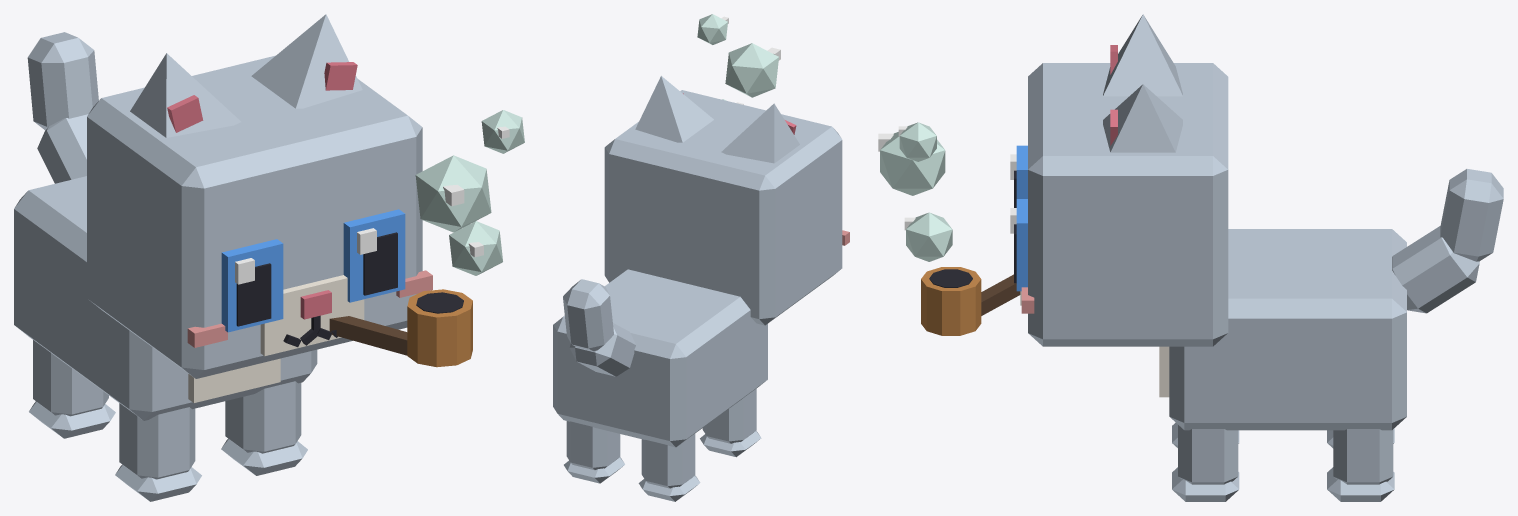
Rendered from CatCafe_Cat_Bubbles.glb.
3 renders of one model, left to right at view 1: azimuth 30°, elevation 25°; view 2: azimuth 150°, elevation 25°; view 3: azimuth 270°, elevation 25°, orthographic. The views are drawn at different scales.
Visible parts, largest first — view 1: CatCafe_Cat_Bubbles_Head, CatCafe_Cat_Bubbles_Body, CatCafe_Cat_Bubbles_Tail, CatCafe_Cat_Bubbles_Prop_Glass, CatCafe_Cat_Bubbles_Prop, CatCafe_Cat_Bubbles_LegF2, CatCafe_Cat_Bubbles_LegF1, CatCafe_Cat_Bubbles_EarL, CatCafe_Cat_Bubbles_Eye2, CatCafe_Cat_Bubbles_Eye1, CatCafe_Cat_Bubbles_LegB2, CatCafe_Cat_Bubbles_EarR; view 2: CatCafe_Cat_Bubbles_Head, CatCafe_Cat_Bubbles_Body, CatCafe_Cat_Bubbles_Tail, CatCafe_Cat_Bubbles_LegB2, CatCafe_Cat_Bubbles_Prop_Glass, CatCafe_Cat_Bubbles_EarL, CatCafe_Cat_Bubbles_LegB1, CatCafe_Cat_Bubbles_EarR, CatCafe_Cat_Bubbles_LegF2; view 3: CatCafe_Cat_Bubbles_Head, CatCafe_Cat_Bubbles_Body, CatCafe_Cat_Bubbles_Tail, CatCafe_Cat_Bubbles_Prop_Glass, CatCafe_Cat_Bubbles_Prop, CatCafe_Cat_Bubbles_LegF1, CatCafe_Cat_Bubbles_LegB1, CatCafe_Cat_Bubbles_EarR, CatCafe_Cat_Bubbles_EarL, CatCafe_Cat_Bubbles_Eye1, CatCafe_Cat_Bubbles_Eye2.
Boxes of the visible parts, x1,y1,x2,y2 form: CatCafe_Cat_Bubbles_Head: (87,55,432,378); CatCafe_Cat_Bubbles_Body: (14,176,317,420); CatCafe_Cat_Bubbles_Tail: (27,32,98,183); CatCafe_Cat_Bubbles_Prop_Glass: (415,110,524,275); CatCafe_Cat_Bubbles_Prop: (329,126,509,367); CatCafe_Cat_Bubbles_LegF2: (115,403,201,501); CatCafe_Cat_Bubbles_LegF1: (221,381,307,475); CatCafe_Cat_Bubbles_EarL: (251,14,362,108); CatCafe_Cat_Bubbles_Eye2: (221,239,283,332); CatCafe_Cat_Bubbles_Eye1: (343,209,405,302); CatCafe_Cat_Bubbles_LegB2: (29,340,115,438); CatCafe_Cat_Bubbles_EarR: (130,53,240,137); CatCafe_Cat_Bubbles_Head: (604,90,849,325); CatCafe_Cat_Bubbles_Body: (553,269,767,447); CatCafe_Cat_Bubbles_Tail: (563,279,635,376); CatCafe_Cat_Bubbles_LegB2: (638,433,700,501); CatCafe_Cat_Bubbles_Prop_Glass: (697,14,778,100); CatCafe_Cat_Bubbles_EarL: (635,76,713,142); CatCafe_Cat_Bubbles_LegB1: (564,421,624,483); CatCafe_Cat_Bubbles_EarR: (721,103,799,163); CatCafe_Cat_Bubbles_LegF2: (700,388,761,457); CatCafe_Cat_Bubbles_Head: (1020,63,1228,346); CatCafe_Cat_Bubbles_Body: (1159,229,1406,430); CatCafe_Cat_Bubbles_Tail: (1392,169,1503,313); CatCafe_Cat_Bubbles_Prop_Glass: (880,122,952,261); CatCafe_Cat_Bubbles_Prop: (878,126,1020,335); CatCafe_Cat_Bubbles_LegF1: (1172,425,1239,501); CatCafe_Cat_Bubbles_LegB1: (1327,429,1394,501); CatCafe_Cat_Bubbles_EarR: (1103,14,1182,96); CatCafe_Cat_Bubbles_EarL: (1103,84,1182,152); CatCafe_Cat_Bubbles_Eye1: (1010,199,1027,291); CatCafe_Cat_Bubbles_Eye2: (1010,145,1027,207).
Size of the model in its own units: 1.13 by 1.86 by 2.5.
Materials: 1 (1 with a texture image).
